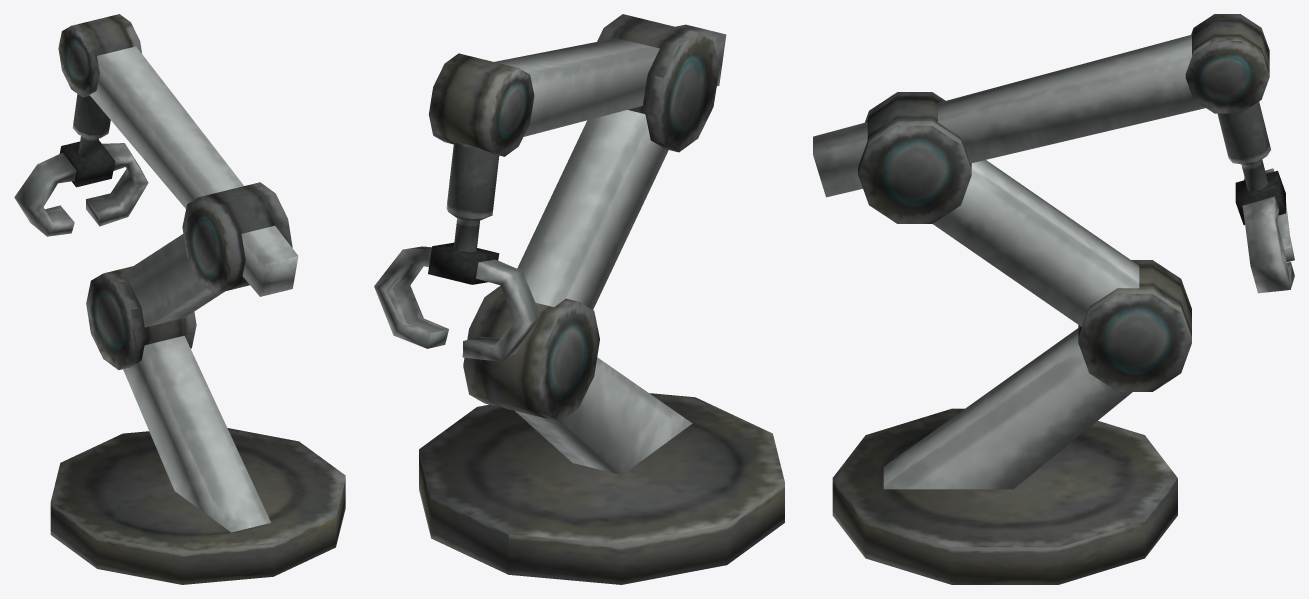
File: MESH_BRACOMECANICO.fbx
The picture shows the model from 3 angles, left to right: view 1: azimuth 30°, elevation 25°; view 2: azimuth 150°, elevation 25°; view 3: azimuth 270°, elevation 25°; orthographic projection. The views are drawn at different scales.
Parts seen in each view (by area): view 1: MESH_BRACOMECANICO; view 2: MESH_BRACOMECANICO; view 3: MESH_BRACOMECANICO.
Part boxes in pixels (bbox=[...]): MESH_BRACOMECANICO: bbox=[14, 14, 345, 584]; MESH_BRACOMECANICO: bbox=[374, 14, 784, 584]; MESH_BRACOMECANICO: bbox=[813, 14, 1294, 584].
Size of the model in its own units: 0.3697 by 0.6164 by 0.5427.
